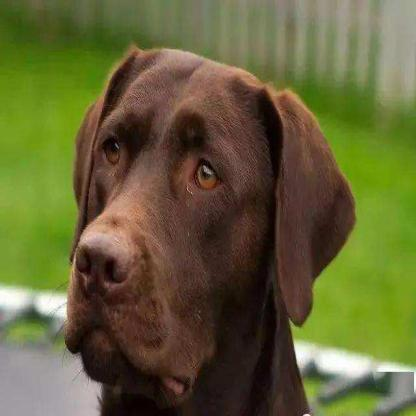Labarador Retriever: (68, 38, 357, 416)
